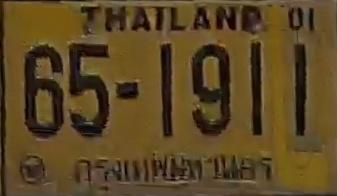1: (249, 42, 262, 135), (160, 44, 172, 138), (294, 44, 306, 136)
5: (69, 43, 110, 138)
6: (23, 44, 63, 138)
9: (192, 43, 230, 135)
BKK: (68, 144, 275, 193)
